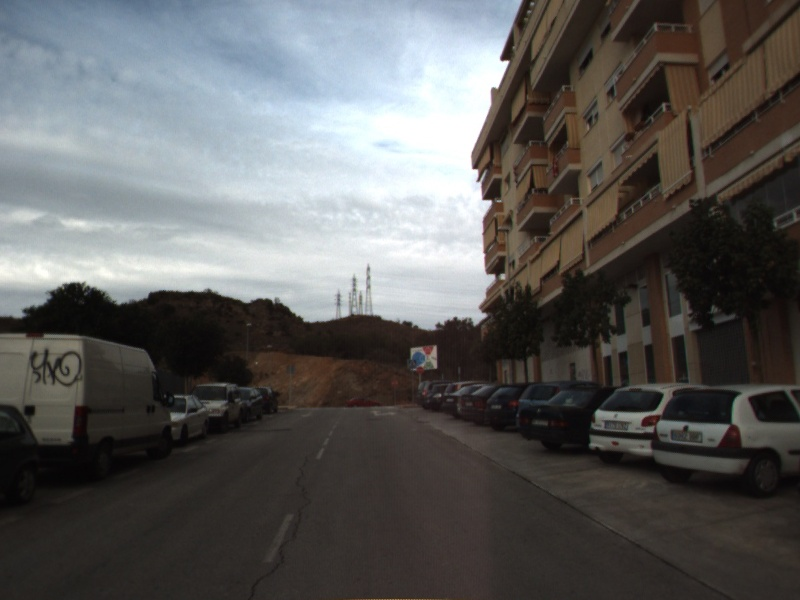STRAIGHT_RIGHT: (367, 408, 399, 418)
